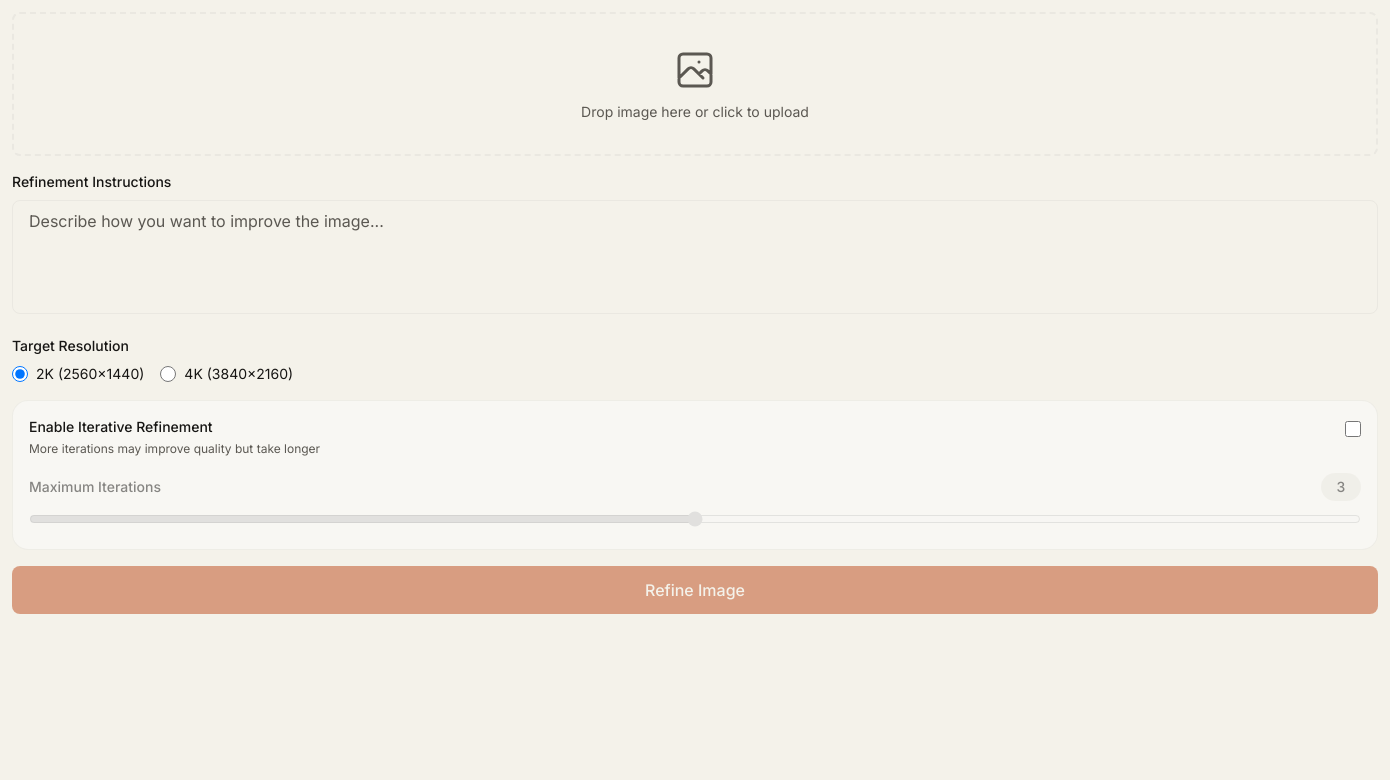
Test: RefinePanel › disables max iterations until iterative refinement is enabled
Expected: the slider labelled "Maximum Iterations" is disabled, [29, 511, 1361, 527]
Click the checkbox named "enable iterative refinement" at (1353, 429), box [1345, 421, 1361, 437]
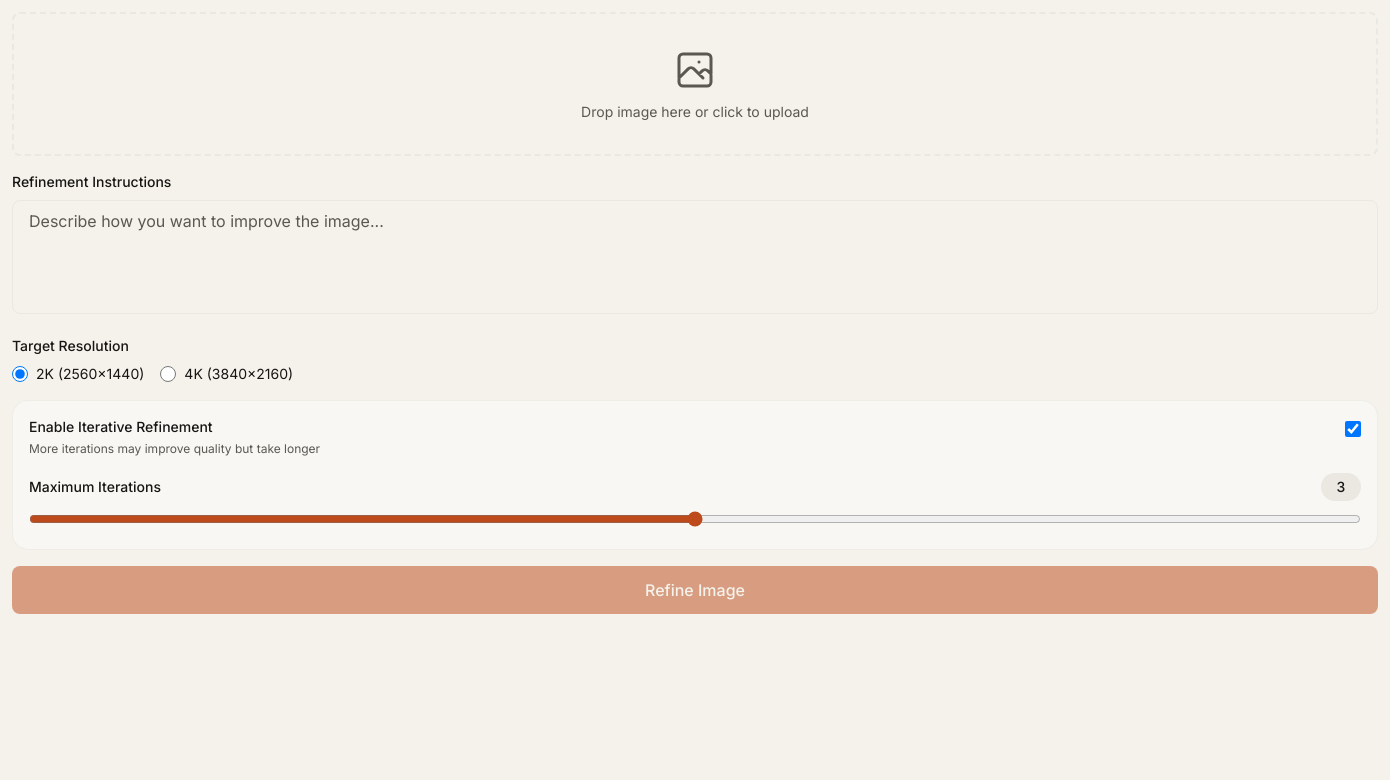
Now the slider labelled "Maximum Iterations" is enabled, box [29, 511, 1361, 527]
